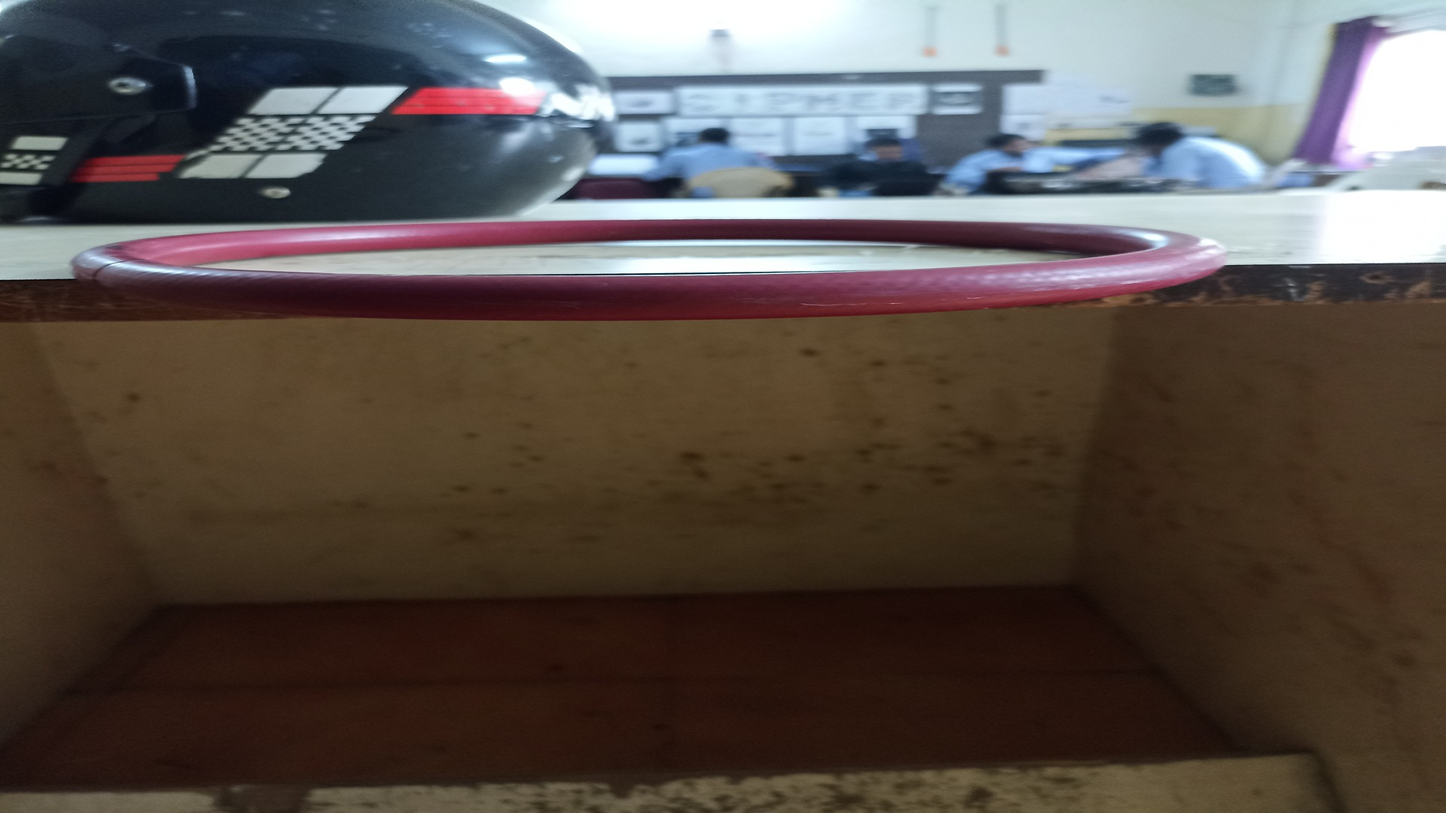Red ring: (70, 220, 1225, 312)
